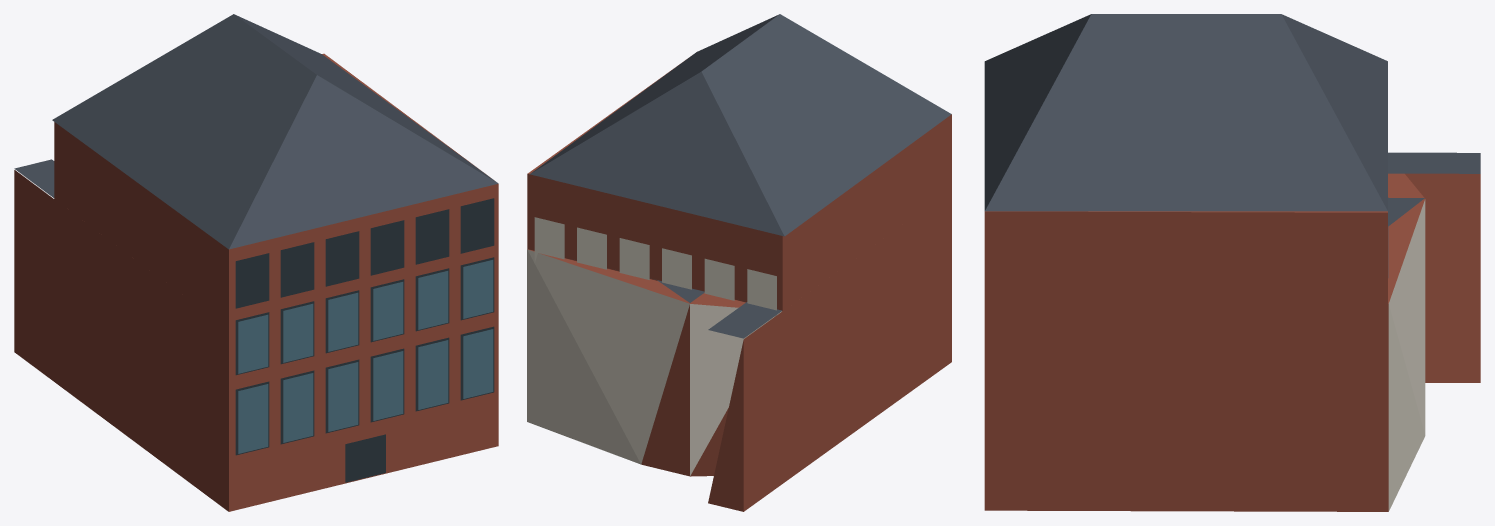
File: kattenkabinet.lod2.glb
The picture shows the model from 3 angles, left to right: view 1: azimuth 30°, elevation 25°; view 2: azimuth 150°, elevation 25°; view 3: azimuth 270°, elevation 25°; orthographic projection. The views are drawn at different scales.
Visible parts, largest first — view 1: lod2; view 2: lod2; view 3: lod2.
Boxes of the visible parts, x1,y1,x2,y2 form: lod2: (14,14,498,511); lod2: (527,14,951,511); lod2: (984,14,1480,511).
Bounding box in the file's own units: 15.05 × 19.53 × 21.02.
